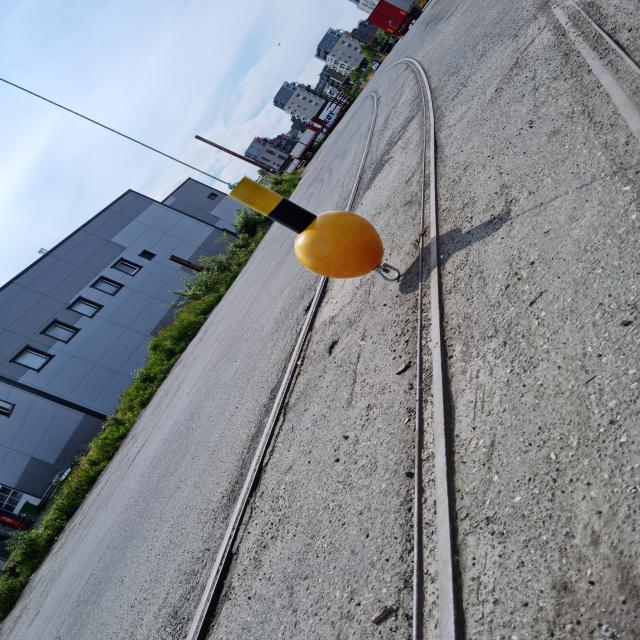west: (226, 176, 383, 278)
